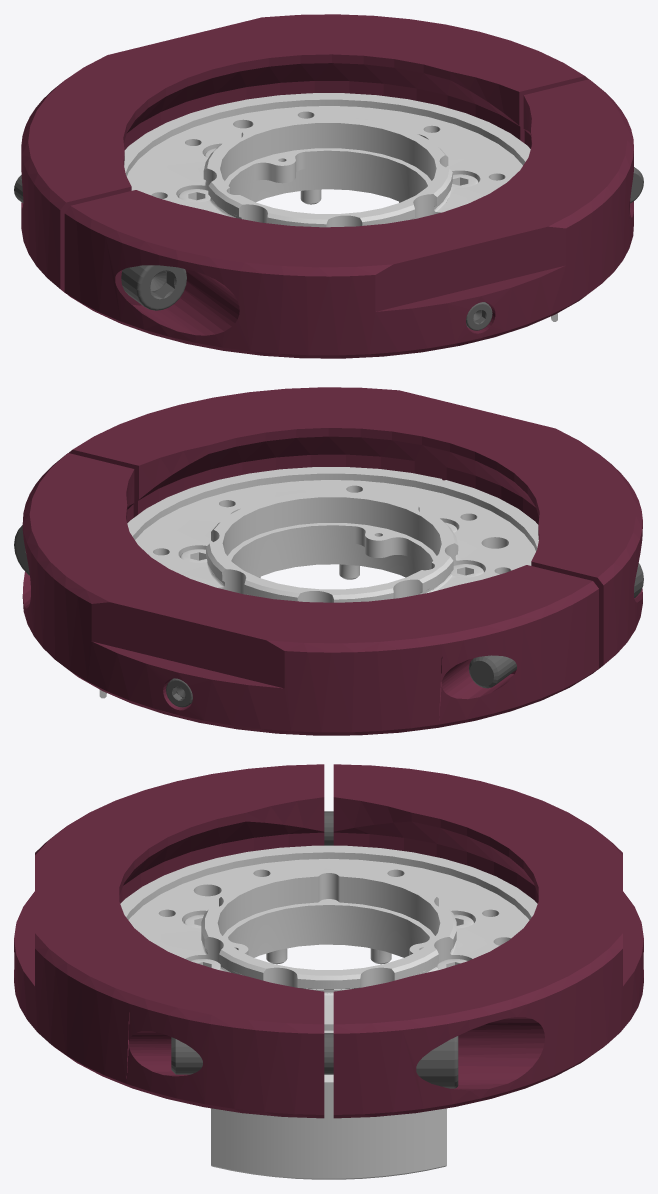
The model's file is LWA46_Link6.dae.
3 views of the same model, one above another, from view 1: azimuth 30°, elevation 25°; view 2: azimuth 150°, elevation 25°; view 3: azimuth 270°, elevation 25° (orthographic). The views are drawn at different scales.
Parts seen in each view (by area): view 1: FWK_Ring, Link6; view 2: FWK_Ring, Link6; view 3: FWK_Ring, Link6.
Boxes of the visible parts, <box> form: FWK_Ring: <box>14,14,643,358</box>; Link6: <box>124,93,557,321</box>; FWK_Ring: <box>14,387,643,735</box>; Link6: <box>99,467,538,698</box>; FWK_Ring: <box>14,764,643,1118</box>; Link6: <box>120,845,537,1179</box>.
Bounding box in the file's own units: 0.09 × 0.09 × 0.0294.
